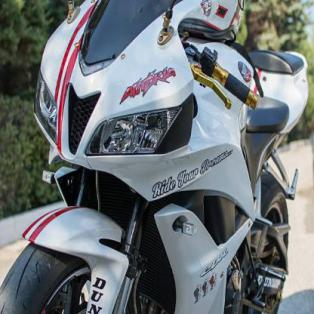Motocicleta: (2, 2, 313, 313)
